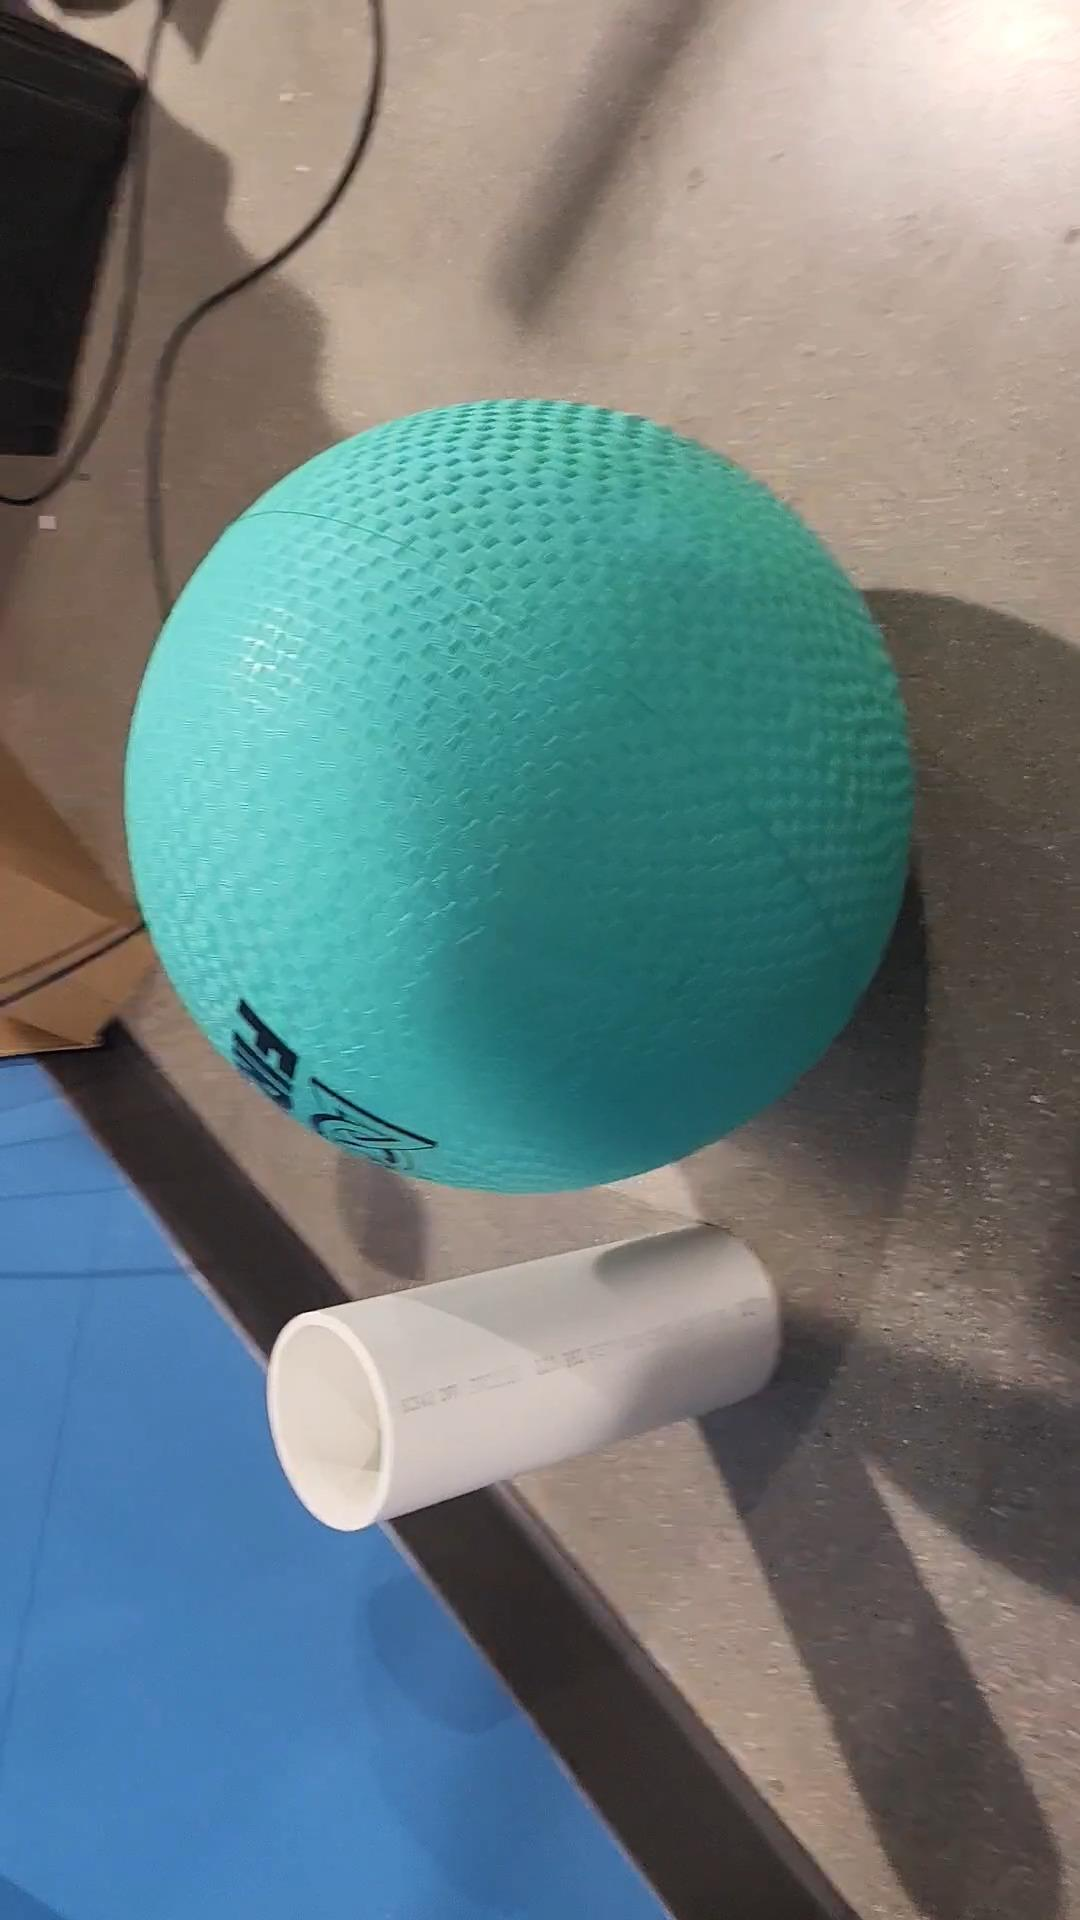algae: (113, 384, 927, 1207)
coral: (257, 1208, 810, 1527)
